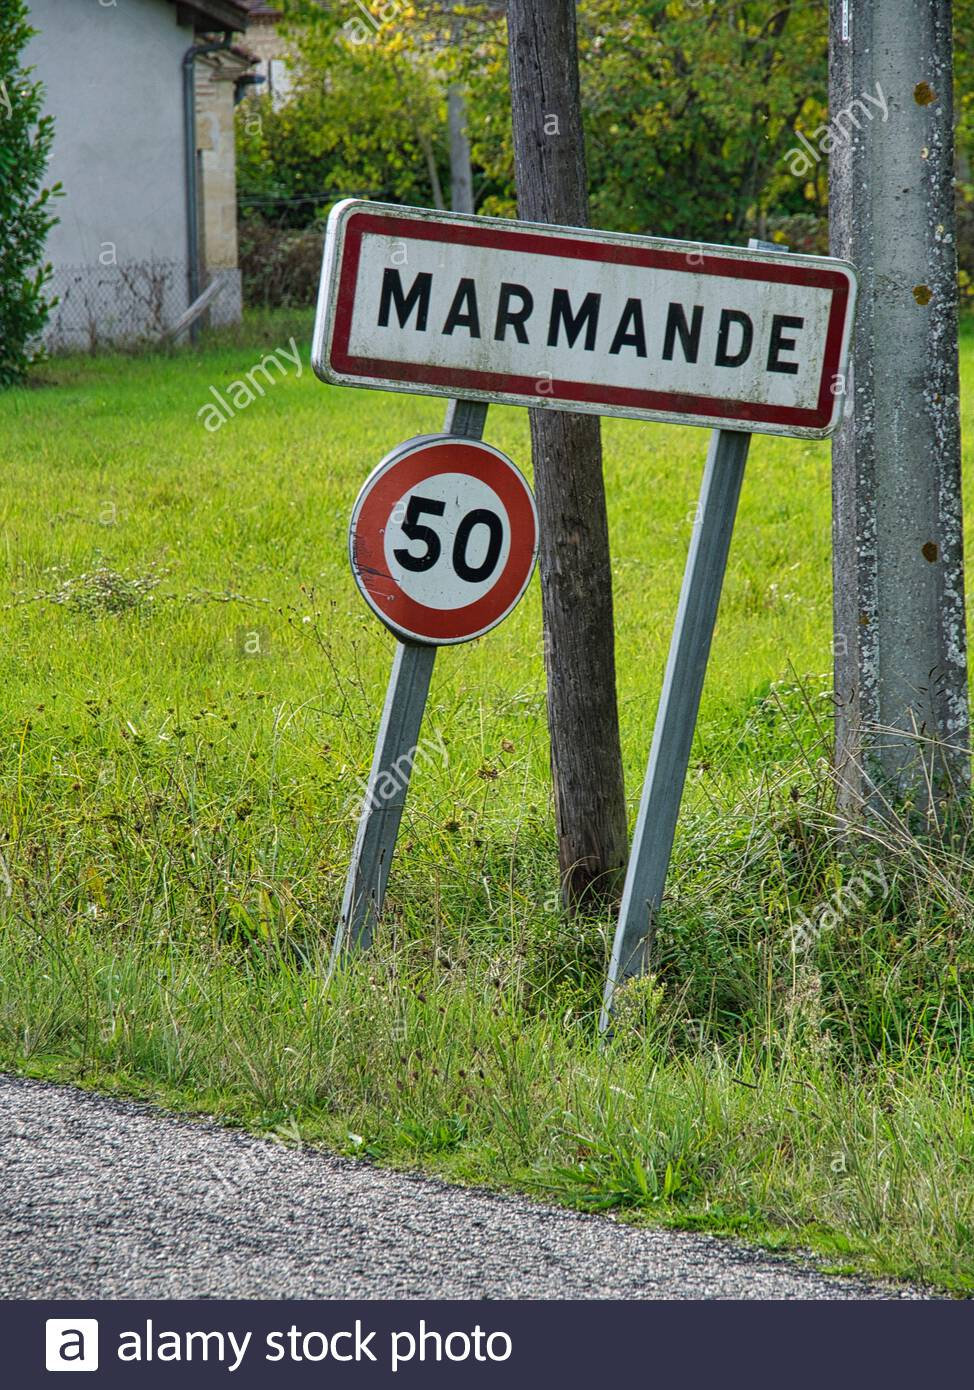speed_limit_50: (349, 440, 538, 647)
